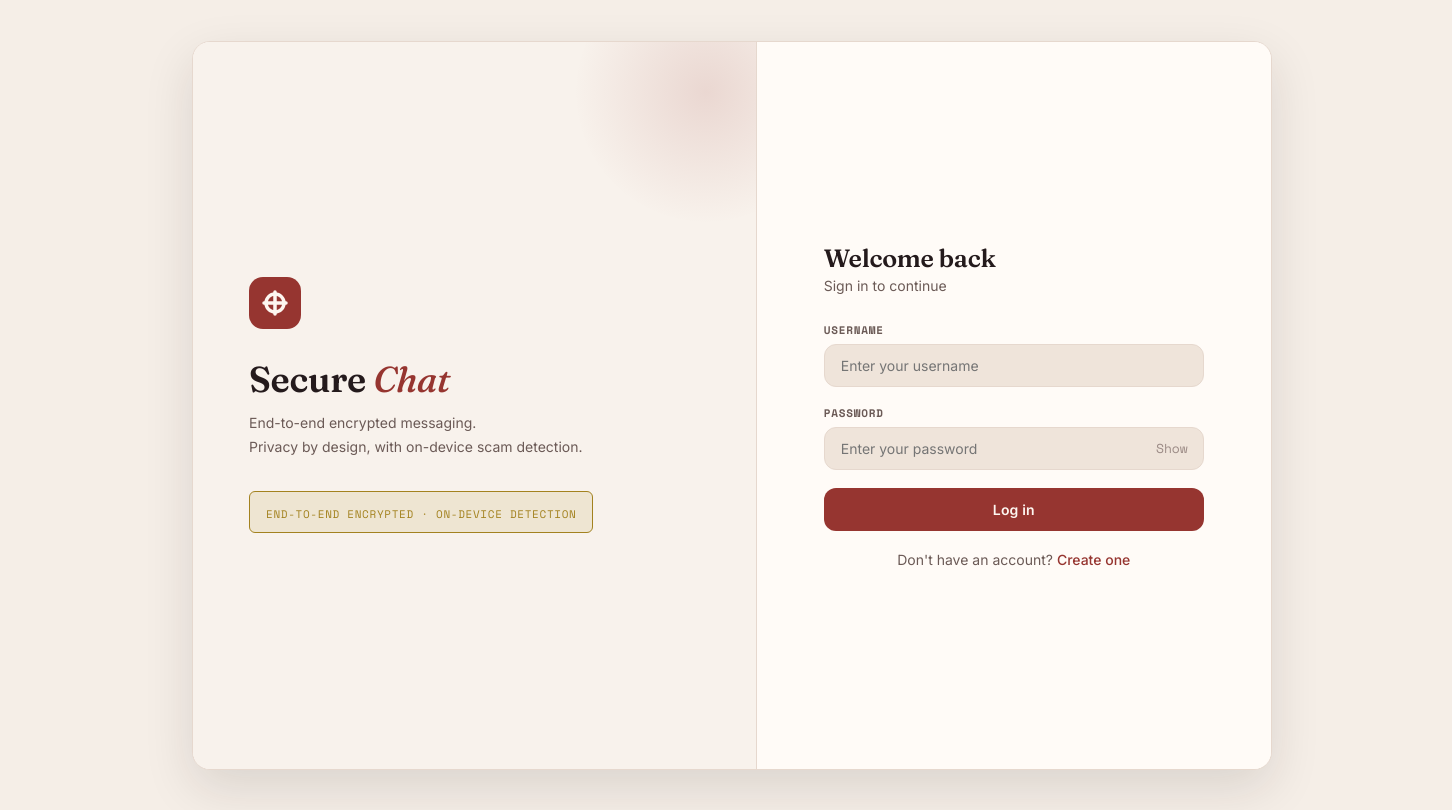
Scenario: AuthScreen › shows the identity-setup error and stays signed out on an unrecoverable device
Type "alice" into the field labelled "Username". click: (1014, 365)
box: [824,344,1204,386]
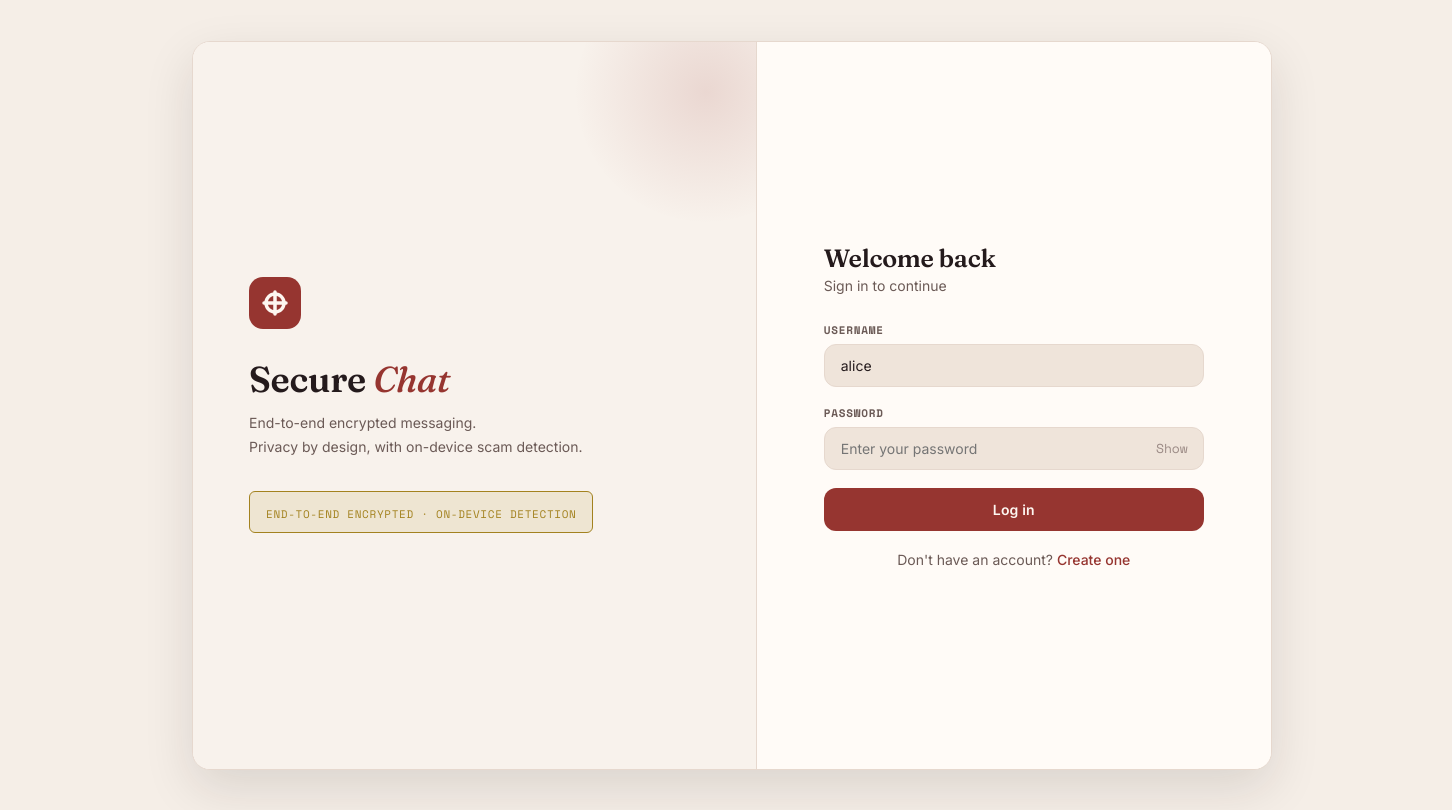
Type "correct horse battery staple" into the password field labelled "Password". click: (1014, 448)
box: [824,426,1204,470]
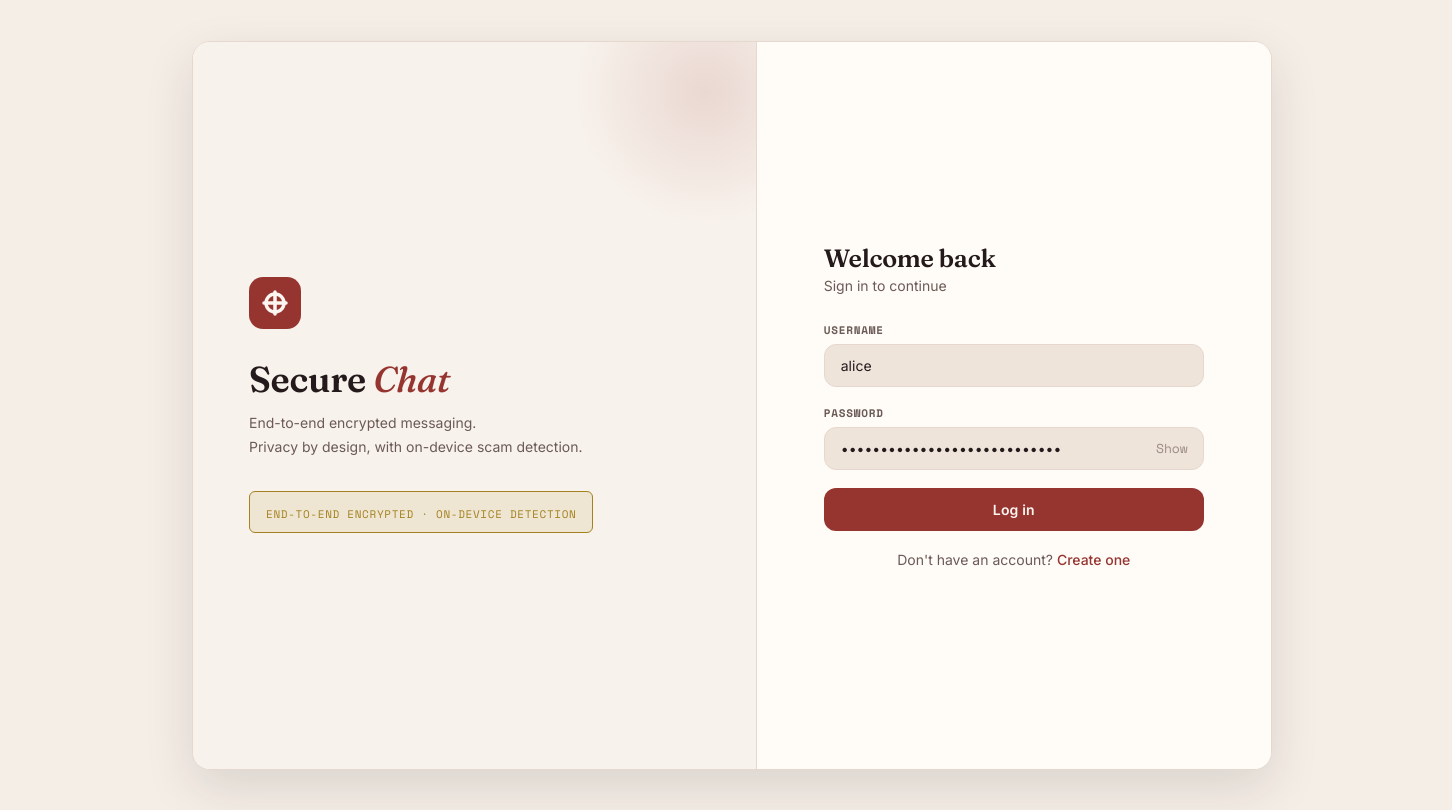
Click the button "Log in". click: (1014, 509)
box: [824,488,1204,530]
(page scrolled)
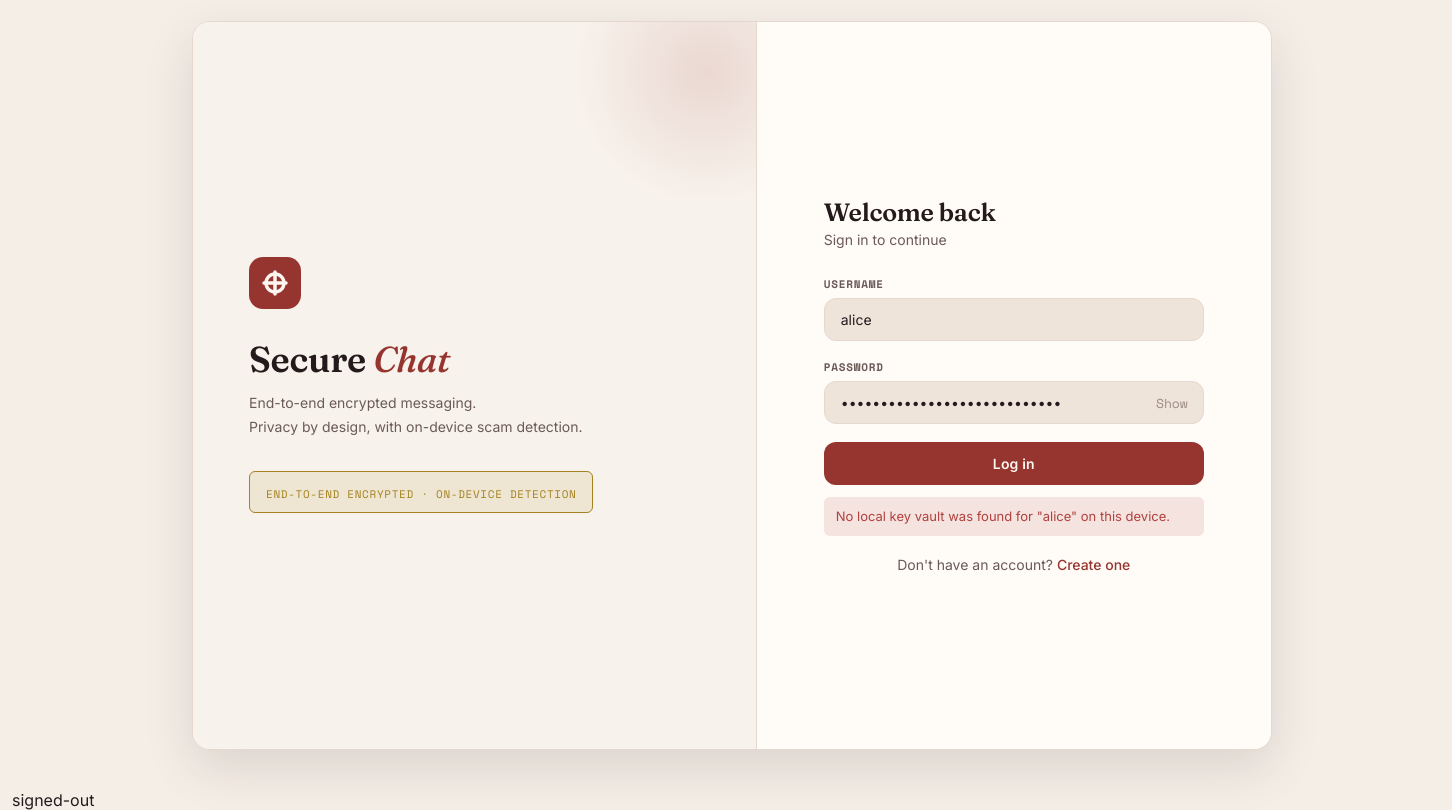
Now the text "No local key vault was found for \"alice\" on this device." is shown, box [824,497,1204,536]
Now the text with test id "session-probe" reads "signed-out", box [12,790,94,809]
